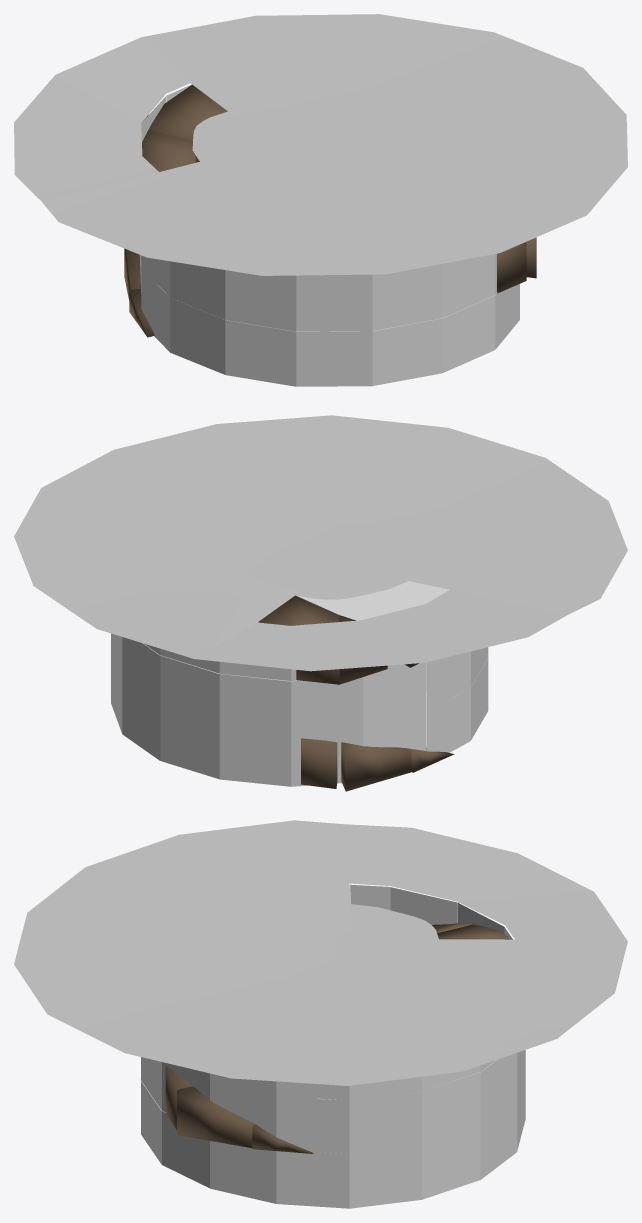
Rendered from colliderZamok 1.fbx.
3 renders of one model, top to bottom at view 1: azimuth 30°, elevation 25°; view 2: azimuth 150°, elevation 25°; view 3: azimuth 270°, elevation 25°, orthographic. The views are drawn at different scales.
Visible parts, largest first — view 1: Final.001, Final.006, SteniOsnova.049, SteniOsnova.056, SteniOsnova.045, Final.002, SteniOsnova.058, SteniOsnova.041, Final.003, Final.004, Final.005, Final (+7 smaller); view 2: Final.001, Final.006, SteniOsnova.027, SteniOsnova.033, Final.002, SteniOsnova.036, SteniOsnova.030, Final.003, SteniOsnova.039, SteniOsnova.018, Final.004, Circle.031 (+10 smaller); view 3: Final.001, Final.006, SteniOsnova.012, SteniOsnova.005, SteniOsnova.013, Final.002, SteniOsnova.007, Final.003, SteniOsnova.018, Final.004, SteniOsnova.059, Circle.025 (+10 smaller).
Boxes of the visible parts, x1,y1,x2,y2 form: Final.001: (41,68,627,275); Final.006: (141,14,582,144); SteniOsnova.049: (296,274,372,386); SteniOsnova.056: (372,264,442,385); SteniOsnova.045: (225,270,296,386); Final.002: (14,122,158,201); SteniOsnova.058: (442,254,495,373); SteniOsnova.041: (170,261,225,374); Final.003: (14,75,142,155); Final.004: (55,57,165,123); Final.005: (96,37,189,93); Final: (192,111,272,161); Final.001: (42,415,627,614); Final.006: (14,488,338,658); SteniOsnova.027: (219,662,291,786); SteniOsnova.033: (160,648,219,779); Final.002: (424,589,567,662); SteniOsnova.036: (363,662,426,750); SteniOsnova.030: (291,669,362,786); Final.003: (311,604,425,671); SteniOsnova.039: (426,651,470,752); SteniOsnova.018: (122,637,160,760); Final.004: (256,620,360,671); Circle.031: (341,742,411,791); Final.001: (14,820,351,1085); Final.006: (348,939,627,1085); SteniOsnova.012: (349,1076,421,1208); SteniOsnova.005: (276,1081,349,1208); SteniOsnova.013: (422,1065,480,1199); Final.002: (345,824,517,885); SteniOsnova.007: (210,1073,276,1203); Final.003: (391,853,593,901); SteniOsnova.018: (480,1053,517,1179); Final.004: (457,892,609,925); SteniOsnova.059: (162,1062,209,1188); Circle.025: (177,1087,254,1147).
Size of what is drawn, in the model's own units: 2803 by 827 by 2737.
